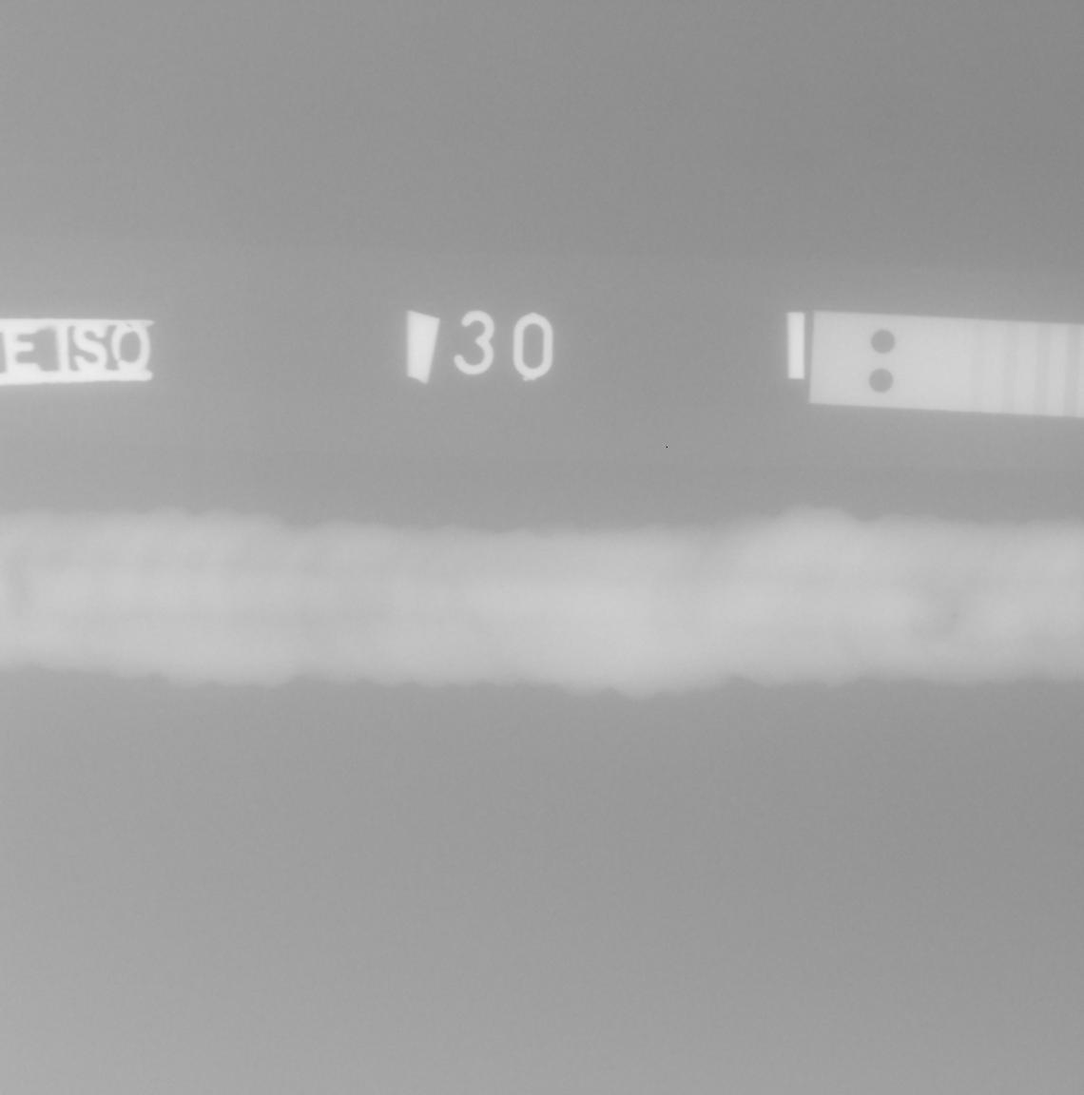Pore/Porosity: (952, 614, 957, 620)
